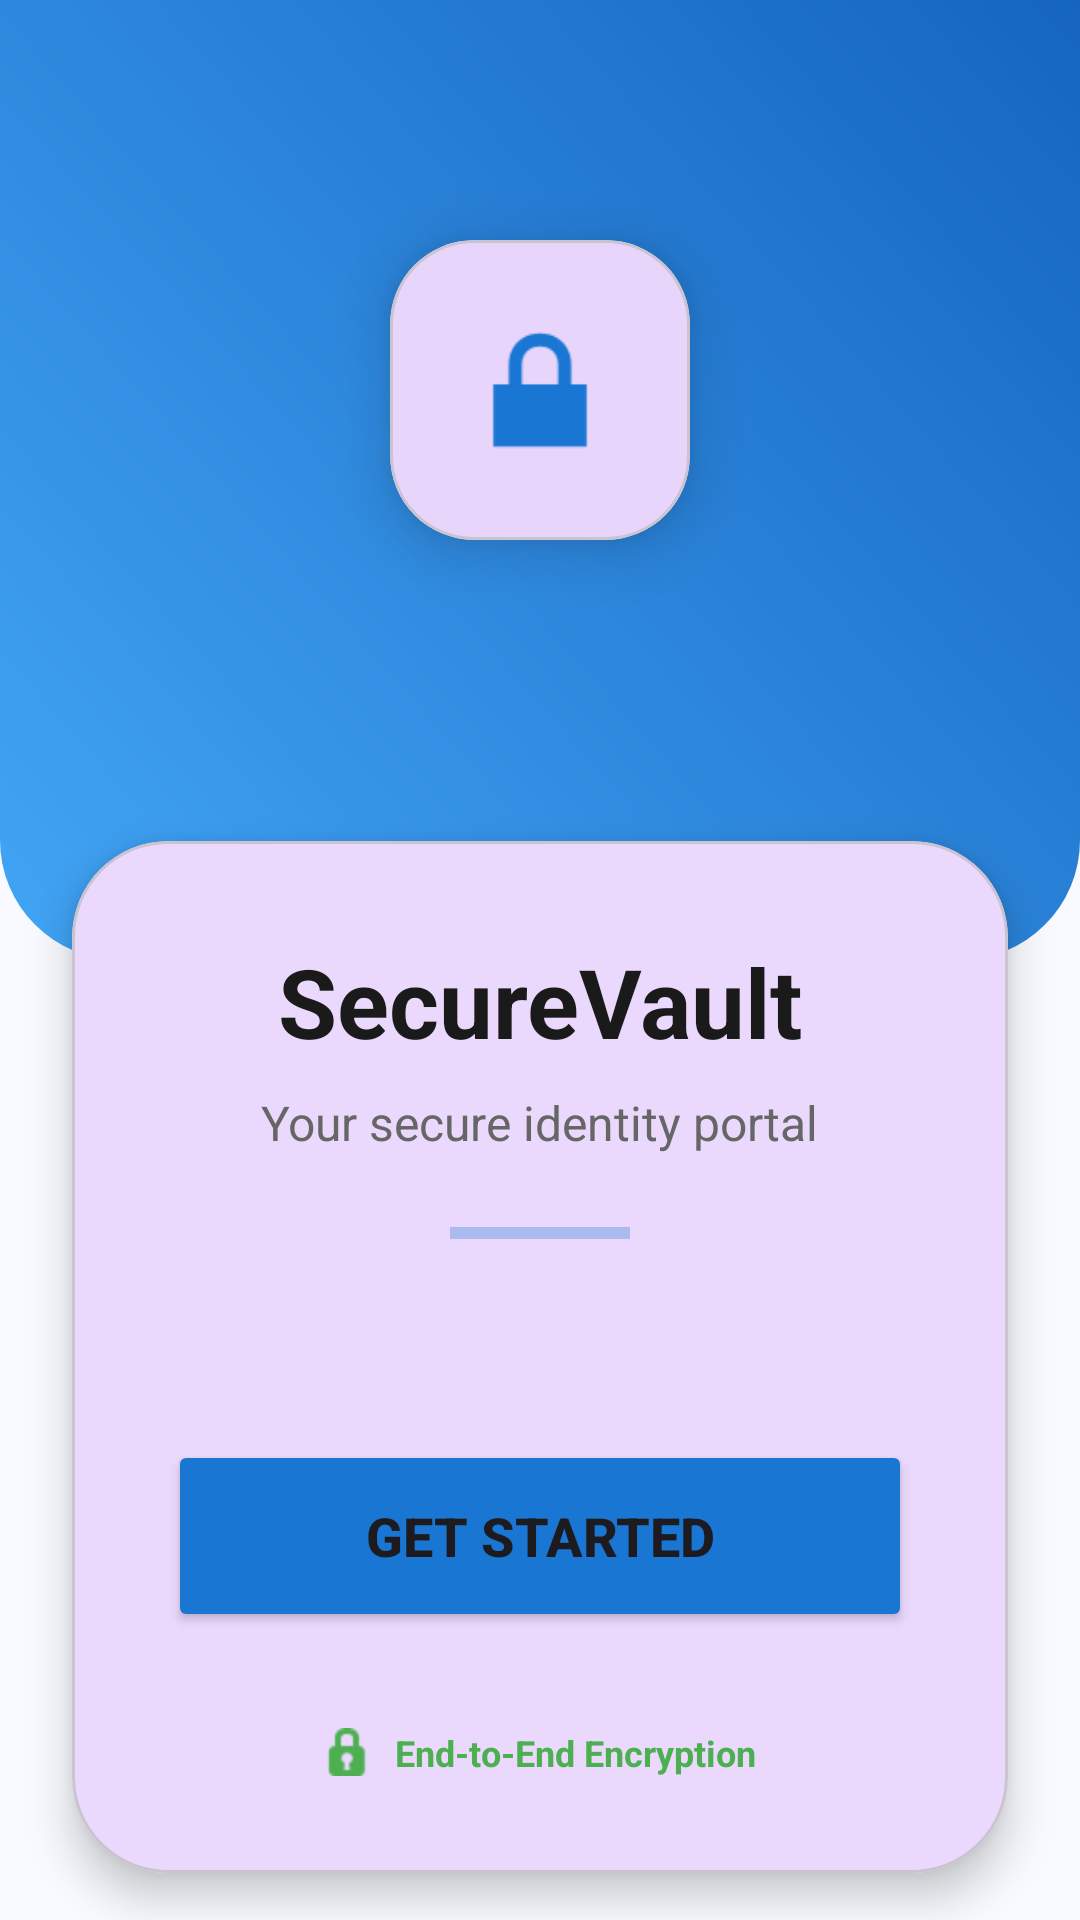

Icon bounding boxes for this 1080 × 1920 phone screenshot, format bbox=(x1, y1, x2, y2):
lock: bbox=(390, 240, 690, 540)
